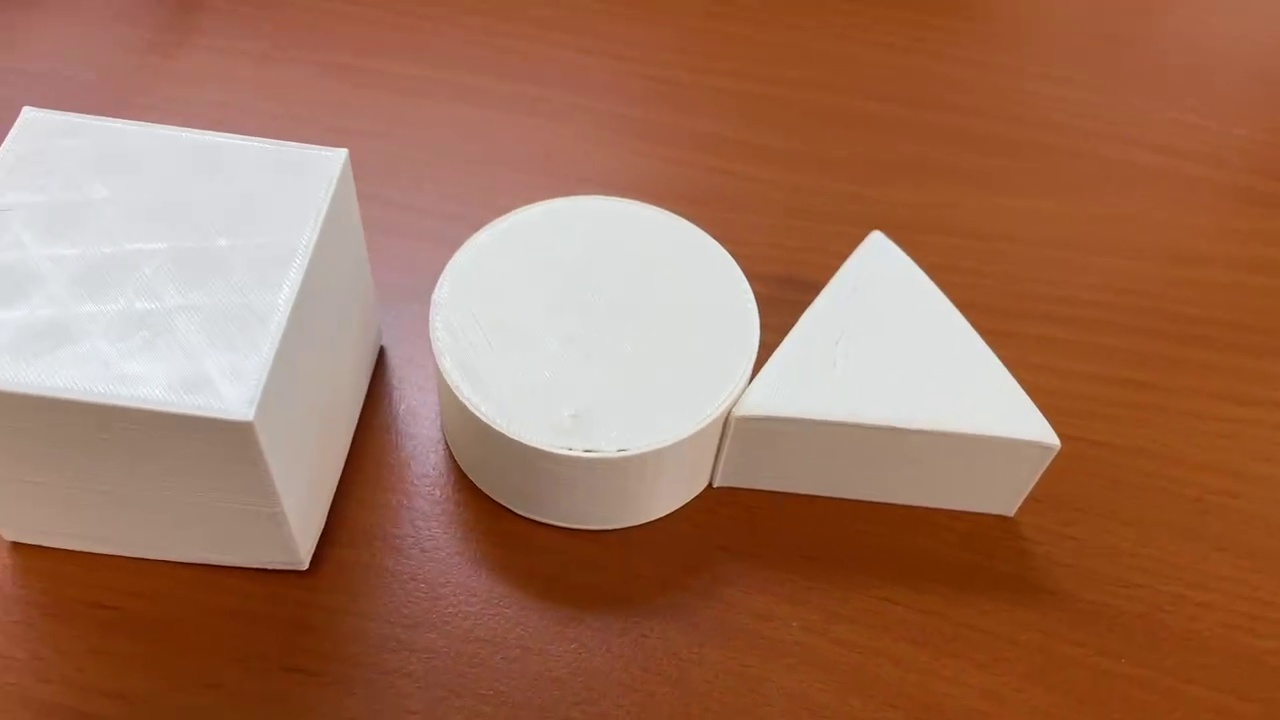Cube: (3, 103, 385, 573)
Cylinder_short: (428, 192, 761, 529)
Triangle_short: (711, 224, 1064, 515)
